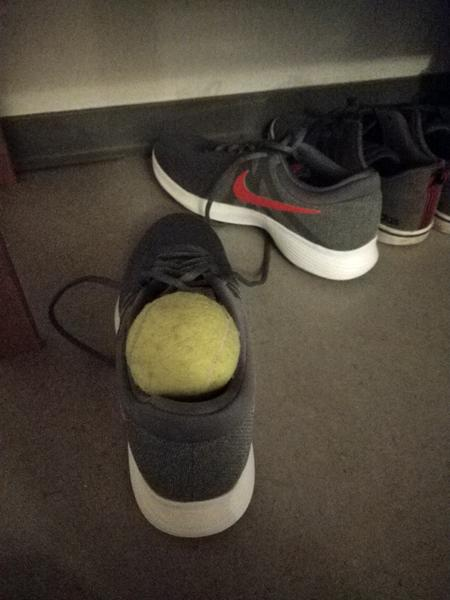Tennisball: (123, 285, 244, 399)
